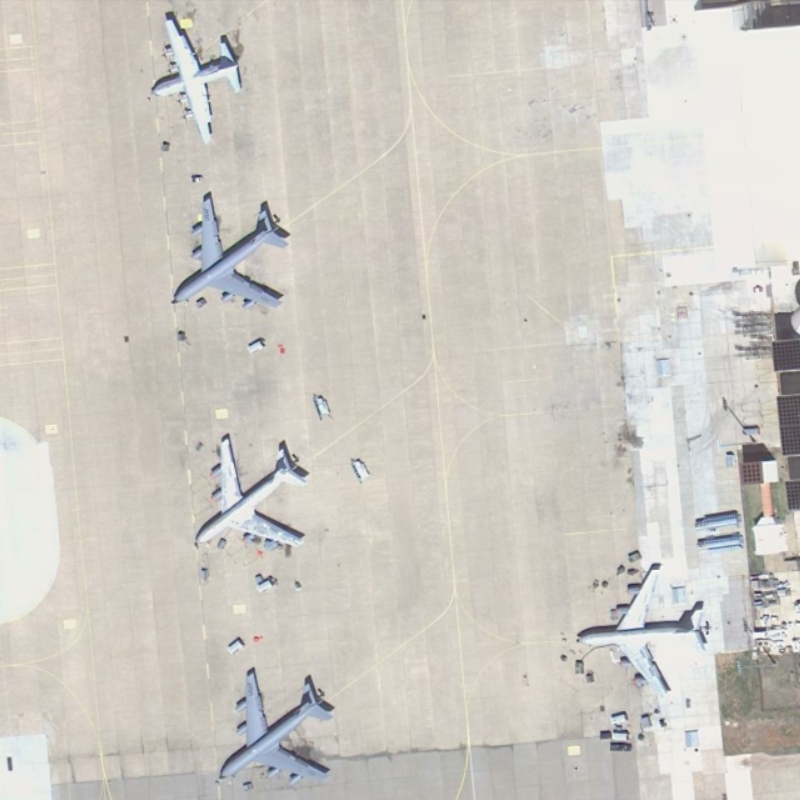A11: (571, 557, 720, 700), (190, 426, 316, 563)
A14: (169, 180, 294, 322), (215, 655, 343, 789)
A2: (144, 6, 249, 152)
